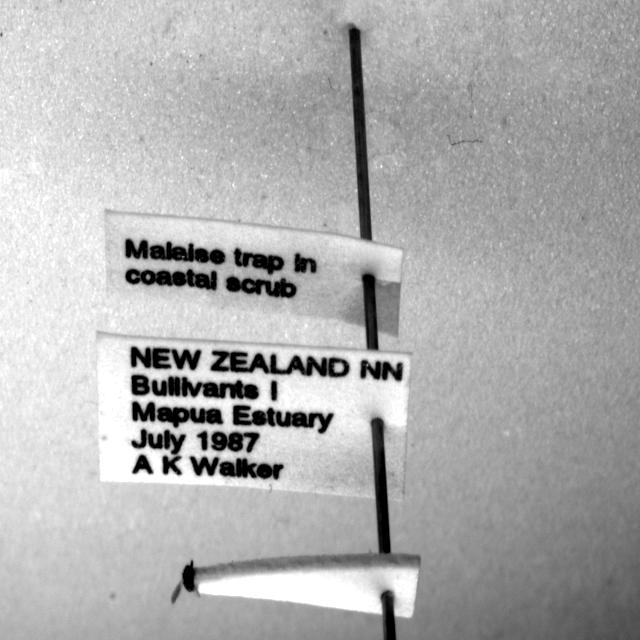typed_label: (98, 334, 411, 499), (105, 210, 402, 336)
